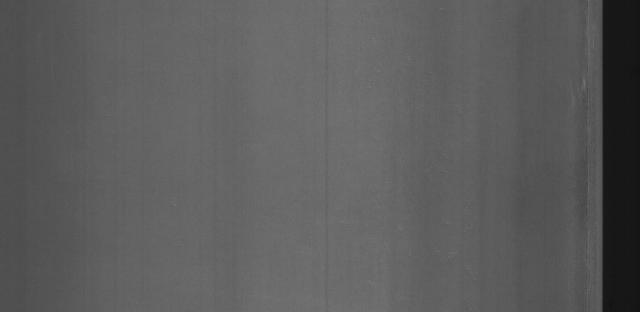silk_spot: (562, 25, 598, 155)
